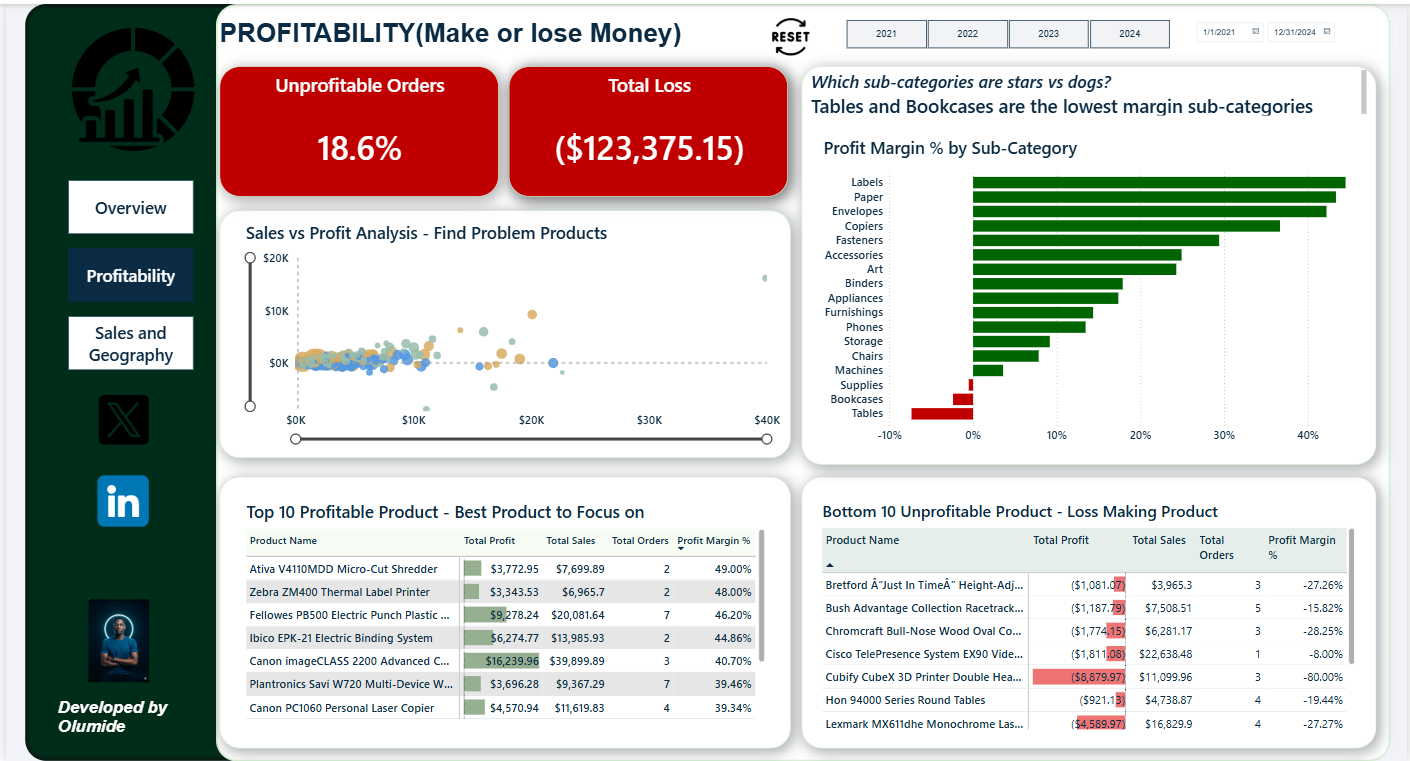

This screenshot's page, from the dashboard's own definition file:
{"tool":"powerbi","page":{"name":"Profitability","canvas":[2000,1080],"ordinal":1},"visuals":[{"type":"group","id":"g1","title":"Group 2","box":[26.9,0.8,1947.7,1081.1],"z":0},{"type":"shape","box":[26.9,0.8,328.8,1080.3],"z":1000,"group":"g1"},{"type":"shape","box":[718.2,88.3,398.4,186.1],"z":1000},{"type":"shape","box":[298.8,0.8,1675.7,1081.1],"z":2000,"group":"g1"},{"type":"shape","box":[305.4,674.4,815.1,387.8],"z":2000},{"type":"shape","box":[305.4,295.2,815.1,353.5],"z":3000},{"type":"shape","box":[305.4,88.3,398.4,186.1],"z":4000},{"type":"slicer","fields":{"Values":["Calendar_Table.Date"]},"box":[1690,20,292.5,45],"z":5000},{"type":"slicer","fields":{"Values":["Calendar_Table.Year"]},"box":[1177.5,20,502.5,45],"z":6000},{"type":"shape","box":[1136,89.2,820.2,568],"z":6000,"group":"g2"},{"type":"textbox","box":[305,20,662.5,45],"z":7000},{"type":"image","box":[111.5,657.2,111.5,103],"z":8000},{"type":"textbox","box":[73.8,990.1,193.9,70.4],"z":9000},{"type":"shape","box":[718.2,88.3,398.4,186.1],"z":10000},{"type":"image","box":[116.7,542.3,103,101.2],"z":11000},{"type":"shape","box":[1136,674.4,820.2,387.8],"z":12000},{"type":"card","title":"Total Loss","fields":{"Values":["Data.Total Loss"]},"box":[737.2,95.4,360.3,169.4],"z":13000},{"type":"card","title":"Unprofitable Orders","fields":{"Values":["Data.Unprofitable %"]},"box":[314.9,95.4,379.4,169.4],"z":14000},{"type":"pivotTable","title":"Top 10 Profitable Product - Best Product to Focus on","fields":{"Rows":["Data.Product Name"],"Values":["Data.3_Total Profit","Data.1_Total Sales","Data.4_Total Orders","Data.6_Profit Margin %"]},"box":[326.9,691.9,770.7,343.6],"z":15000},{"type":"scatterChart","title":"Sales vs Profit Analysis - Find Problem Products","fields":{"X":["Data.1_Total Sales"],"Y":["Data.3_Total Profit"],"Size":["Data.4_Total Orders"],"Series":["Data.Category"],"Category":["Data.Product Name"]},"box":[327.5,295,792.5,347.5],"z":16000},{"type":"group","id":"g2","title":"Group 1","box":[1136,89.2,820.2,568],"z":17000},{"type":"pivotTable","title":"Bottom 10 Unprofitable Product - Loss Making Product","fields":{"Rows":["Data.Product Name"],"Values":["Data.3_Total Profit","Data.1_Total Sales","Data.4_Total Orders","Data.6_Profit Margin %"]},"box":[1149.7,691.5,791.1,358.6],"z":18000},{"type":"image","box":[1061.7,4.8,116.9,83.5],"z":19000},{"type":"barChart","fields":{"Category":["Data.Sub-Category"],"Y":["Data.6_Profit Margin %"]},"box":[1151.5,172.9,797.9,473.6],"z":19000,"group":"g2"},{"type":"textbox","box":[1149.7,93.9,792.8,65.2],"z":20000,"group":"g2"},{"type":"pageNavigator","box":[73.8,236.8,209.4,303.7],"z":20000},{"type":"image","box":[74.4,6.3,216.2,229.9],"z":21000},{"type":"image","box":[103,827.1,116.7,163],"z":22000}]}

Visuals, with their boxes in screenshot pixels (x1, y1, x2, y2), scaled from the page's 2000x1080 canvas onto the 1410x761 screenshot:
"Group 2" group: (19,1,1392,760)
shape: (19,1,251,760)
shape: (506,62,787,193)
shape: (211,1,1392,760)
shape: (215,475,790,748)
shape: (215,208,790,457)
shape: (215,62,496,193)
slicer - Calendar_Table.Date: (1191,14,1398,46)
slicer - Calendar_Table.Year: (830,14,1184,46)
shape: (801,63,1379,463)
textbox: (215,14,682,46)
image: (79,463,157,536)
textbox: (52,698,189,747)
shape: (506,62,787,193)
image: (82,382,155,453)
shape: (801,475,1379,748)
"Total Loss" card: (520,67,774,187)
"Unprofitable Orders" card: (222,67,489,187)
"Top 10 Profitable Product - Best Product to Focus on" pivotTable: (230,488,774,730)
"Sales vs Profit Analysis - Find Problem Products" scatterChart: (231,208,790,453)
"Group 1" group: (801,63,1379,463)
"Bottom 10 Unprofitable Product - Loss Making Product" pivotTable: (811,487,1368,740)
image: (748,3,831,62)
barChart - Data.Sub-Category x Data.6_Profit Margin %: (812,122,1374,456)
textbox: (811,66,1369,112)
pageNavigator: (52,167,200,381)
image: (52,4,205,166)
image: (73,583,155,698)
